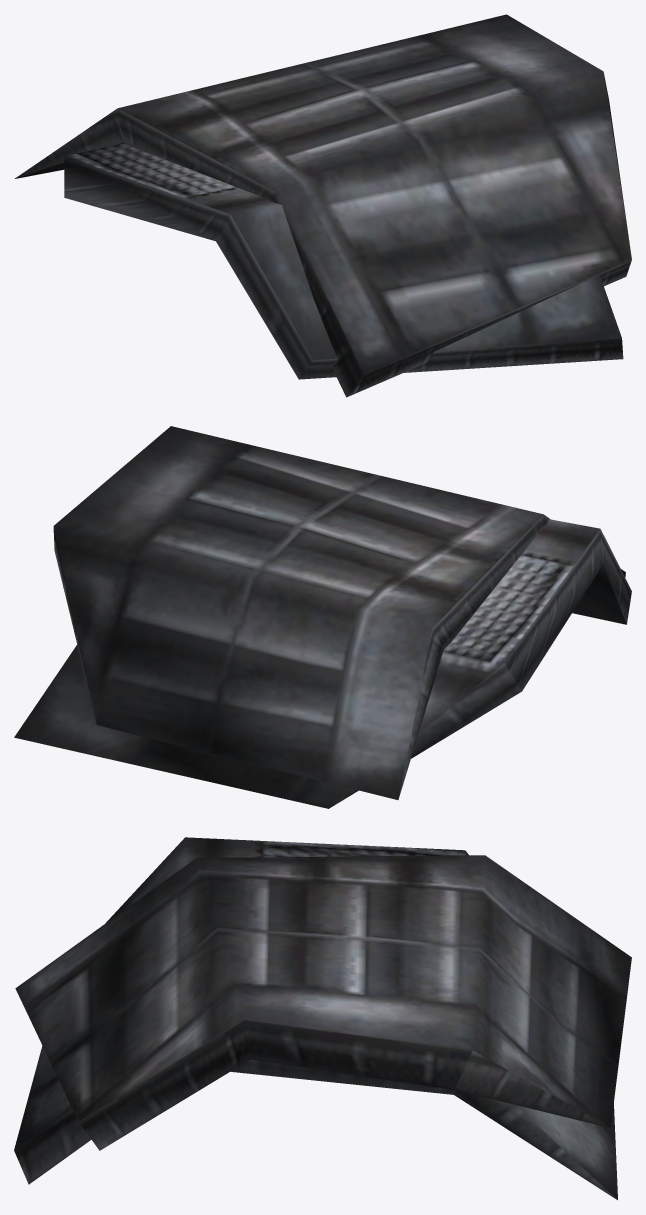
File: ShoulderPads7__EC.glb
The picture shows the model from 3 angles, top to bottom: view 1: azimuth 30°, elevation 25°; view 2: azimuth 150°, elevation 25°; view 3: azimuth 270°, elevation 25°; orthographic projection. The views are drawn at different scales.
Visible parts, largest first — view 1: ShoulderPads7; view 2: ShoulderPads7; view 3: ShoulderPads7.
Part boxes in pixels (x1=…): ShoulderPads7: x1=15, y1=14, x2=631, y2=397; ShoulderPads7: x1=14, y1=426, x2=631, y2=808; ShoulderPads7: x1=14, y1=837, x2=631, y2=1200.
Size of the model in its own units: 10.11 by 4.05 by 10.94.
Materials: 1 (1 with a texture image).
